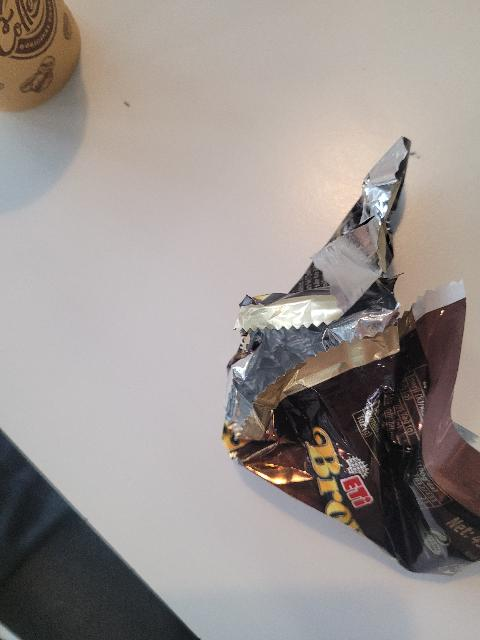Kagit: (0, 0, 79, 115)
Plastik: (219, 137, 480, 578)
